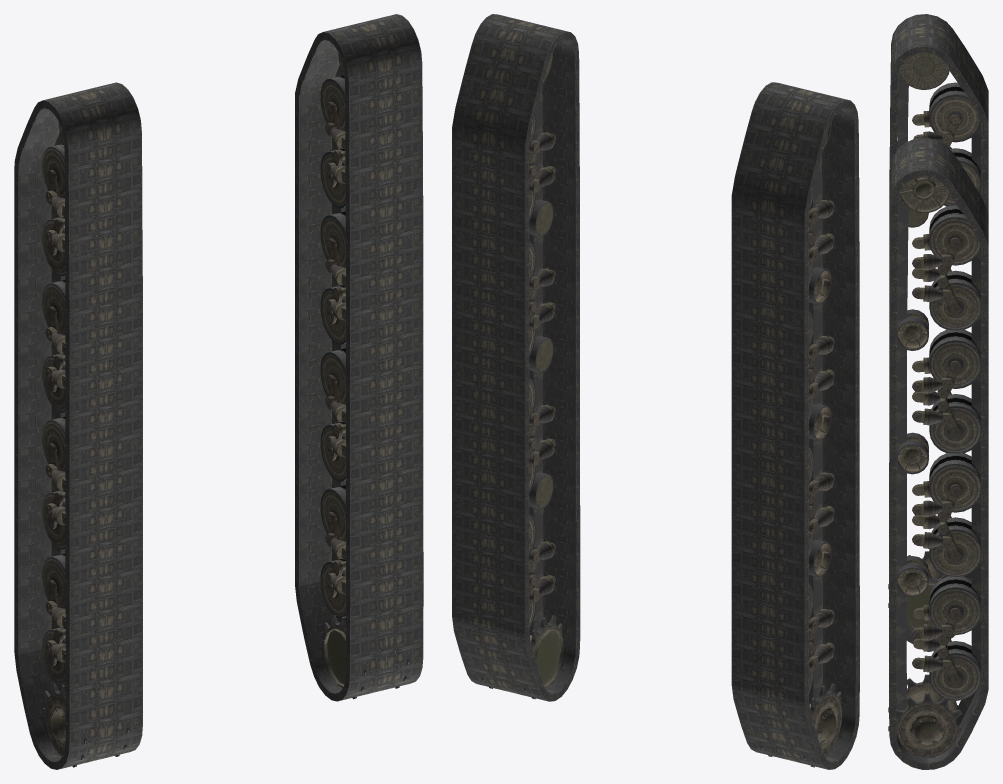
Rendered from Chassis.glb.
3 views of the same model, side by side, from view 1: azimuth 30°, elevation 25°; view 2: azimuth 150°, elevation 25°; view 3: azimuth 270°, elevation 25° (orthographic). The views are drawn at different scales.
Parts seen in each view (by area): view 1: set_1_group_0, set_0_group_0, set_3_group_0, set_2_group_0; view 2: set_1_group_0, set_0_group_0, set_3_group_0, set_2_group_0; view 3: set_3_group_0, set_0_group_0, set_1_group_0, set_2_group_0.
Boxes of the visible parts, x1,y1,x2,y2 form: set_1_group_0: [14, 82, 142, 769]; set_0_group_0: [295, 14, 423, 701]; set_3_group_0: [320, 52, 409, 699]; set_2_group_0: [42, 122, 129, 767]; set_1_group_0: [731, 82, 859, 769]; set_0_group_0: [452, 14, 580, 701]; set_3_group_0: [481, 52, 563, 699]; set_2_group_0: [760, 122, 842, 767]; set_3_group_0: [888, 176, 981, 757]; set_0_group_0: [889, 137, 988, 769]; set_1_group_0: [889, 14, 988, 643]; set_2_group_0: [888, 53, 981, 630].
Bounding box in the file's own units: 3.42 × 6.15 × 0.9314.
Materials: 4 (4 with a texture image).
